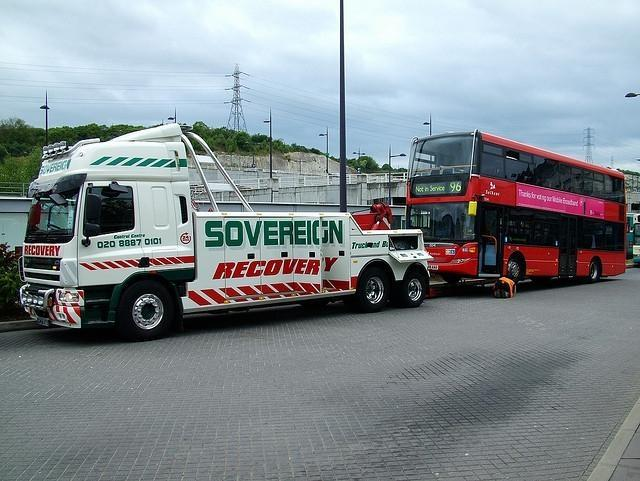bus: (389, 130, 632, 288)
truck: (18, 124, 434, 334)
